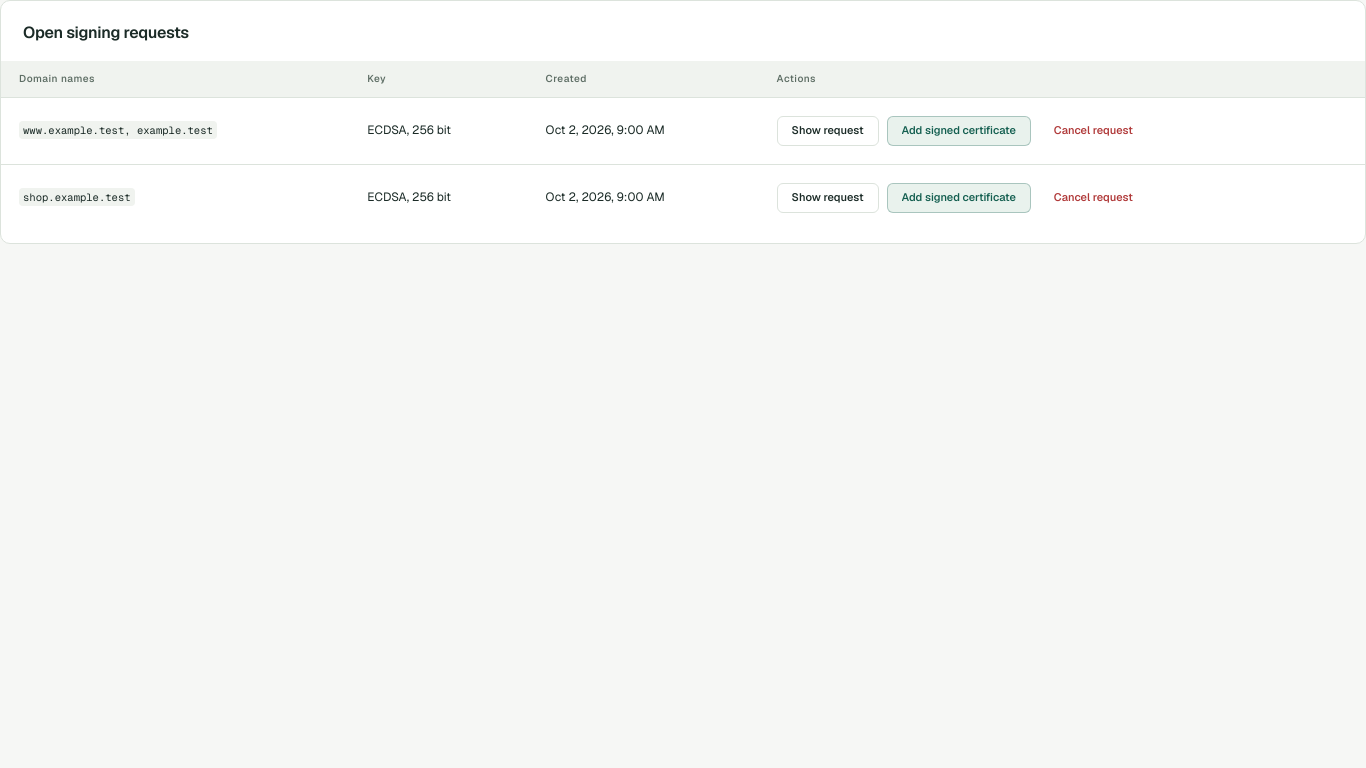
Test: PendingCSRs › asks for the certificate before sending
The image size is (1366, 768).
Click the button "Add signed certificate" in the row of "www.example.test, example.test" at (959, 130), box [886,116,1031,146]
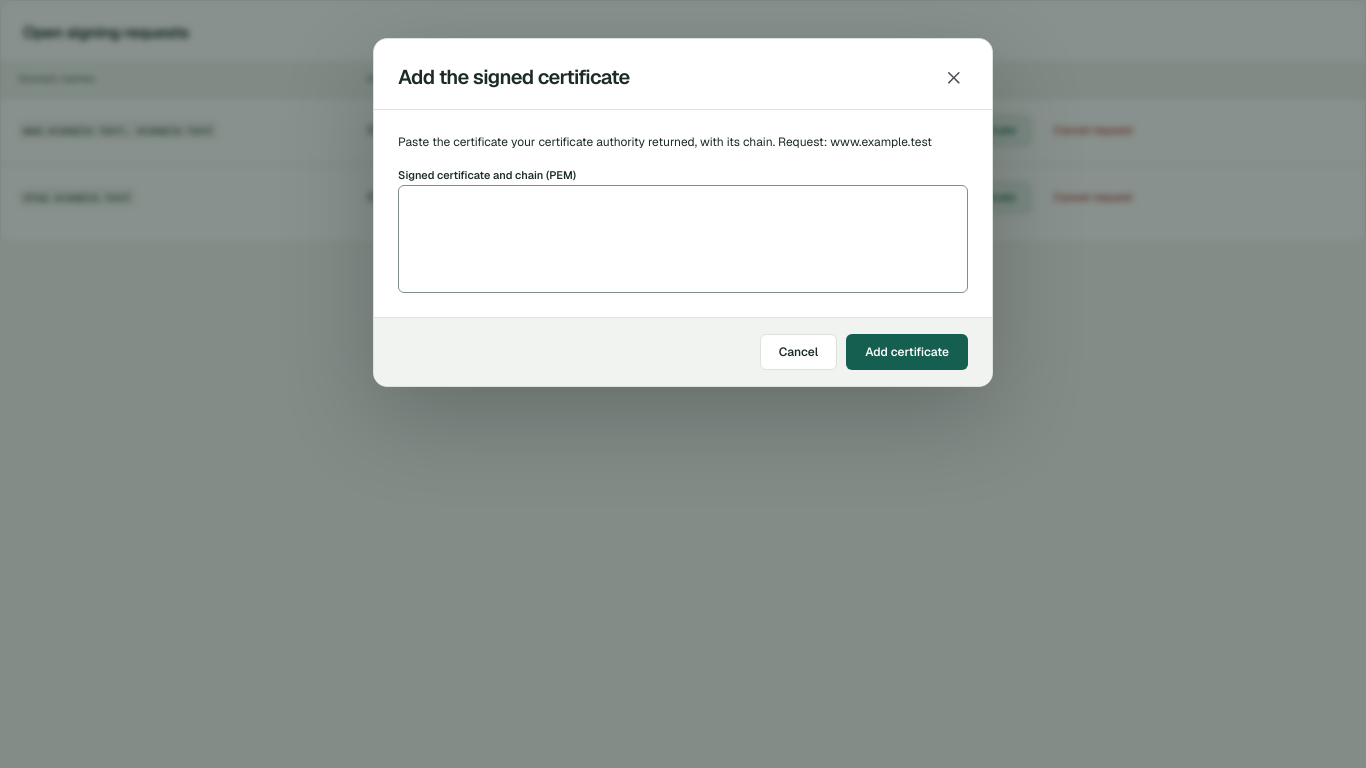
Click the button "Add certificate" at (907, 352), box [846,334,968,370]
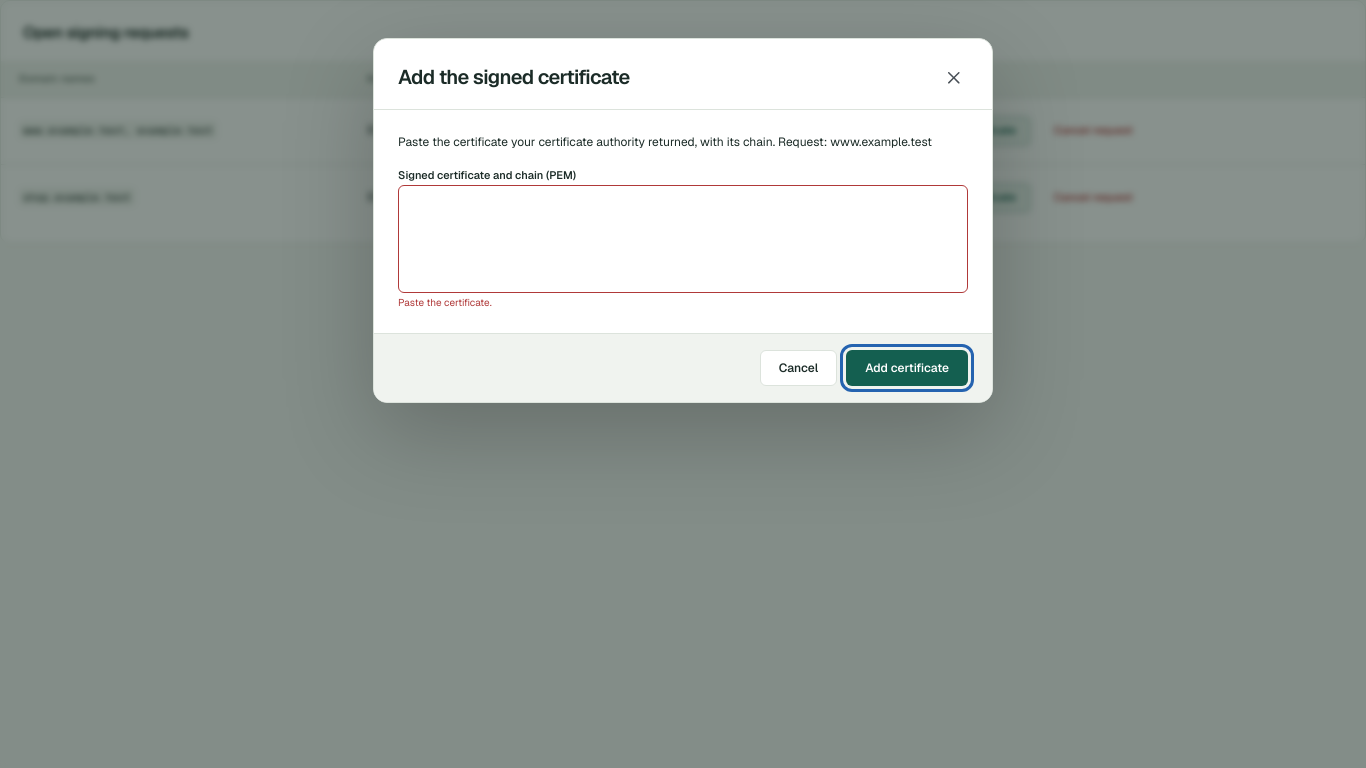
Expected: the text "Paste the certificate." is shown, [398,296,492,310]
